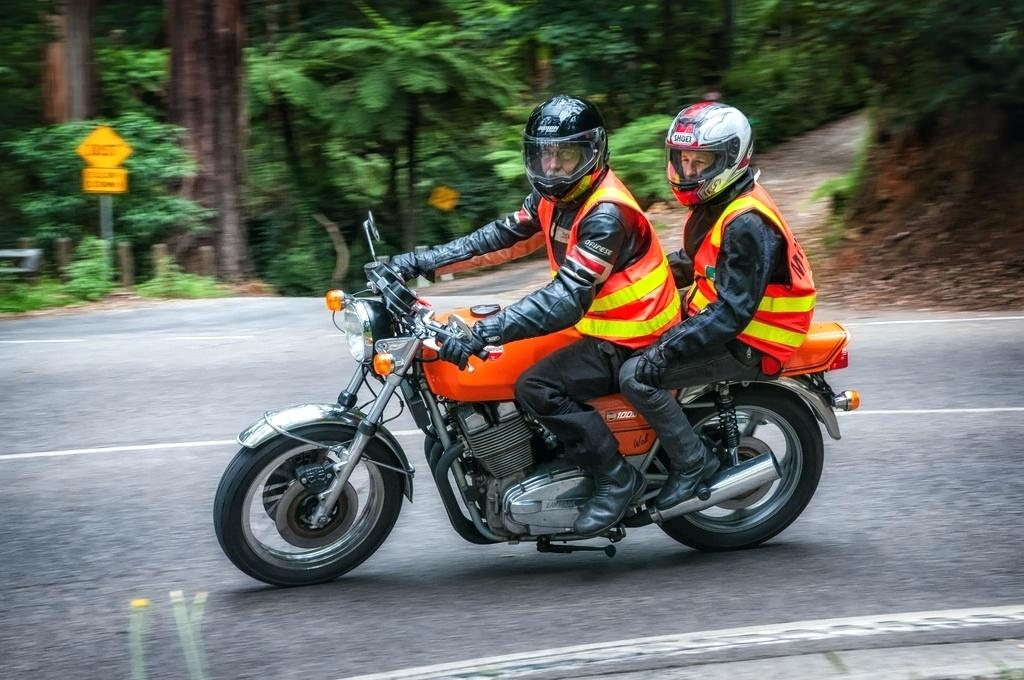helmet: (660, 98, 761, 209), (517, 90, 607, 204)
